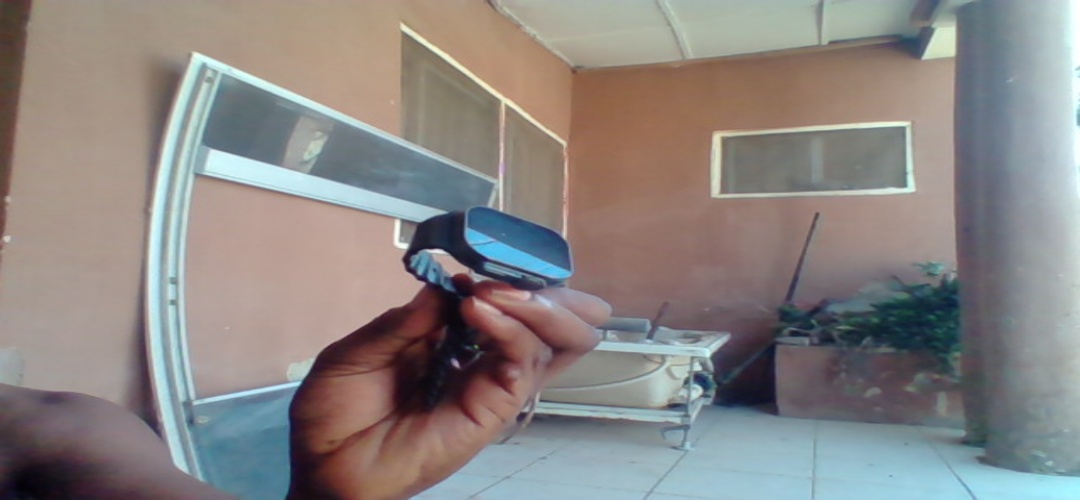smart_watch: (405, 204, 576, 290)
